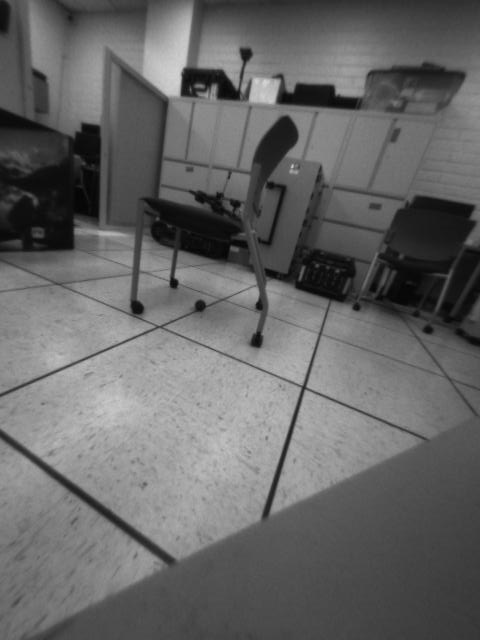dogtoy: (190, 293, 211, 314)
